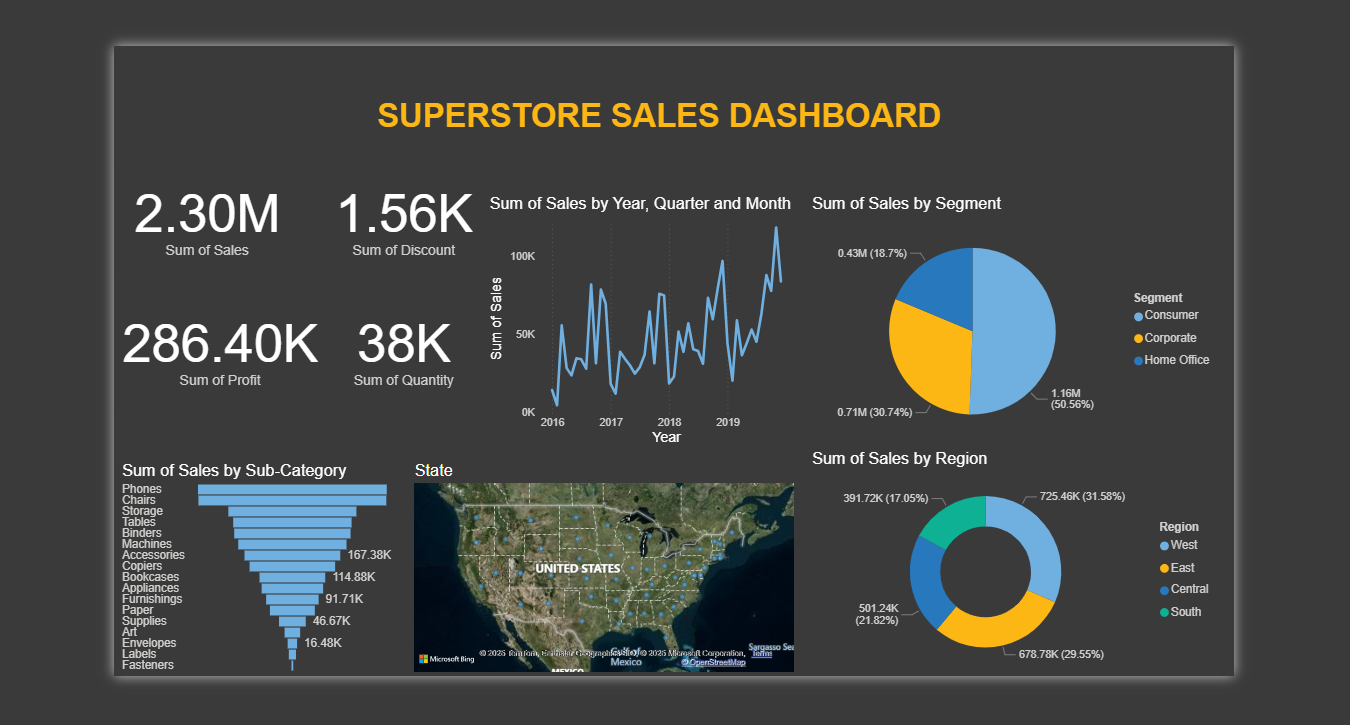

The page's visual inventory and layout, read from the dashboard file:
{"tool":"powerbi","page":{"name":"01_Report","canvas":[1280,720],"ordinal":0},"visuals":[{"type":"funnel","fields":{"Category":["Orders.Sub-Category"],"Y":["Sum(Orders.Sales)"]},"box":[4.7,474.1,317.6,245.9],"z":0},{"type":"map","fields":{"Category":["Orders.State"]},"box":[338.8,474.1,443.5,245.9],"z":1000},{"type":"pieChart","fields":{"Category":["Orders.Segment"],"Y":["Sum(Orders.Sales)"]},"box":[792.9,170,472.9,291.4],"z":2000},{"type":"lineChart","fields":{"Y":["Sum(Orders.Sales)"],"Category":["Orders.Order Date.Variation.Date Hierarchy.Year","Orders.Order Date.Variation.Date Hierarchy.Quarter","Orders.Order Date.Variation.Date Hierarchy.Month"]},"box":[424.3,170,357.1,291.4],"z":3000},{"type":"card","fields":{"Values":["Sum(Orders.Sales)"]},"box":[4.7,134.1,204.7,123.5],"z":4000},{"type":"card","fields":{"Values":["Sum(Orders.Discount)"]},"box":[209.4,134.1,195.3,123.5],"z":5000},{"type":"card","fields":{"Values":["Sum(Orders.Profit)"]},"box":[4.7,267.1,204.7,129.4],"z":6000},{"type":"card","fields":{"Values":["Sum(Orders.Quantity)"]},"box":[209.4,267.1,195.3,129.4],"z":7000},{"type":"donutChart","fields":{"Category":["Orders.Region"],"Y":["Sum(Orders.Sales)"]},"box":[792.9,461.4,472.9,258.6],"z":8000},{"type":"textbox","box":[283.8,52.5,677.5,77.5],"z":9001}]}

Visuals, with their boxes on the page's 1280x720 design canvas (x1, y1, x2, y2). These are canvas units, not pixel positions in the 1350x725 screenshot, which may show the page scaled, cropped or inside an application window:
funnel - Orders.Sub-Category x Sum(Orders.Sales): l=5, t=474, r=322, b=720
map - Orders.State: l=339, t=474, r=782, b=720
pieChart - Orders.Segment x Sum(Orders.Sales): l=793, t=170, r=1266, b=461
lineChart - Sum(Orders.Sales) x Orders.Order Date.Variation.Date Hierarchy.Year: l=424, t=170, r=781, b=461
card - Sum(Orders.Sales): l=5, t=134, r=209, b=258
card - Sum(Orders.Discount): l=209, t=134, r=405, b=258
card - Sum(Orders.Profit): l=5, t=267, r=209, b=396
card - Sum(Orders.Quantity): l=209, t=267, r=405, b=396
donutChart - Orders.Region x Sum(Orders.Sales): l=793, t=461, r=1266, b=720
textbox: l=284, t=52, r=961, b=130
